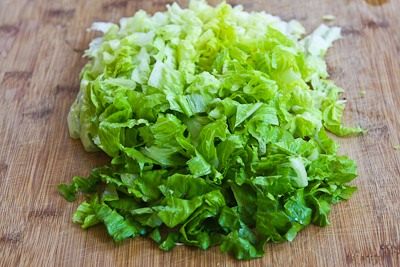chopped lettuce: (87, 20, 330, 239)
